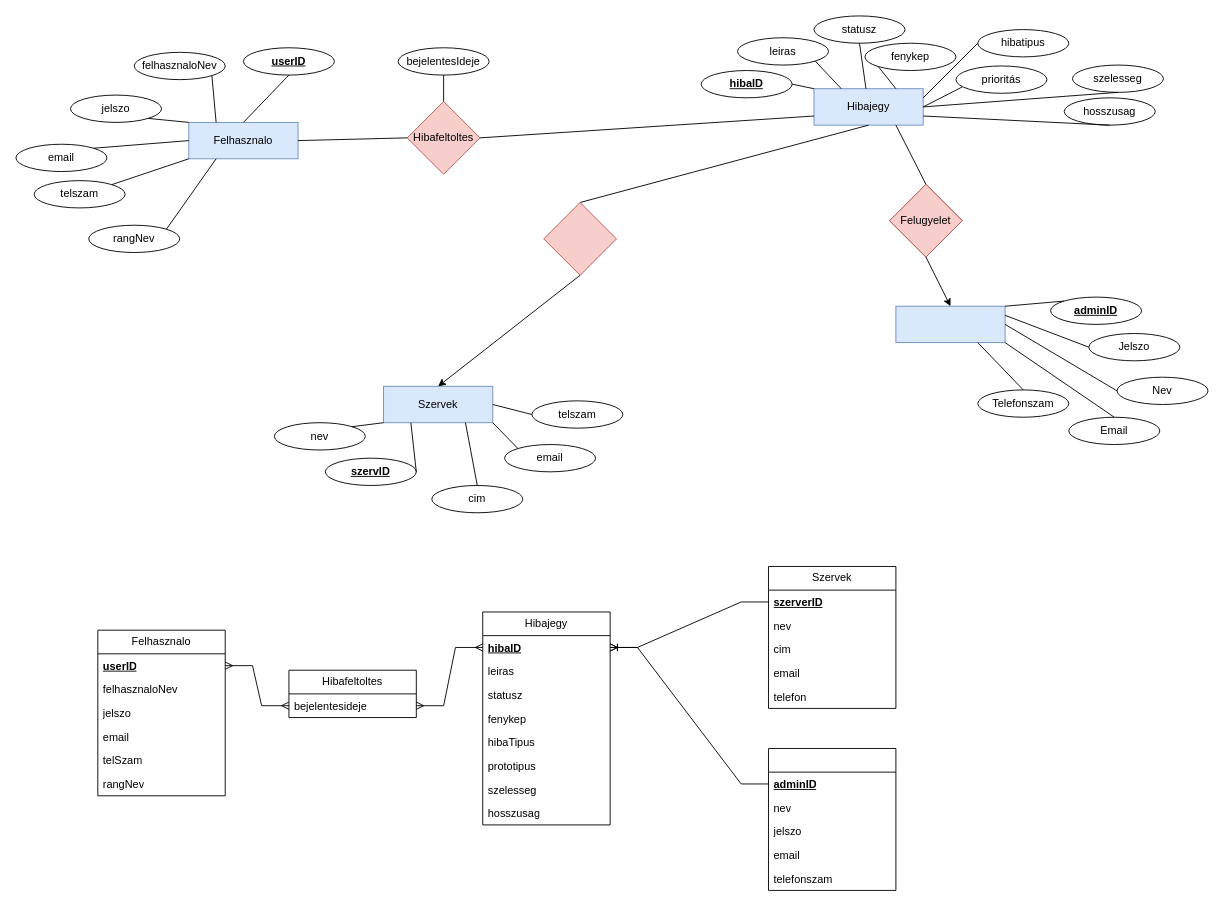
Some shapes in this 1224 by 909 pixel diagram are drawn without their labels. The shapes that lost their labels are listed below. From the top down, each one's box as (x1, y1, x2, y2) in pixels, then its label:
(543, 202, 617, 275): Bejelentes
(895, 305, 1005, 343): Adminisztrator
(768, 748, 896, 890): Adminisztator
